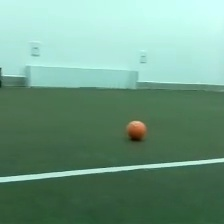ball: (123, 118, 149, 143)
goal: (22, 62, 140, 91)
